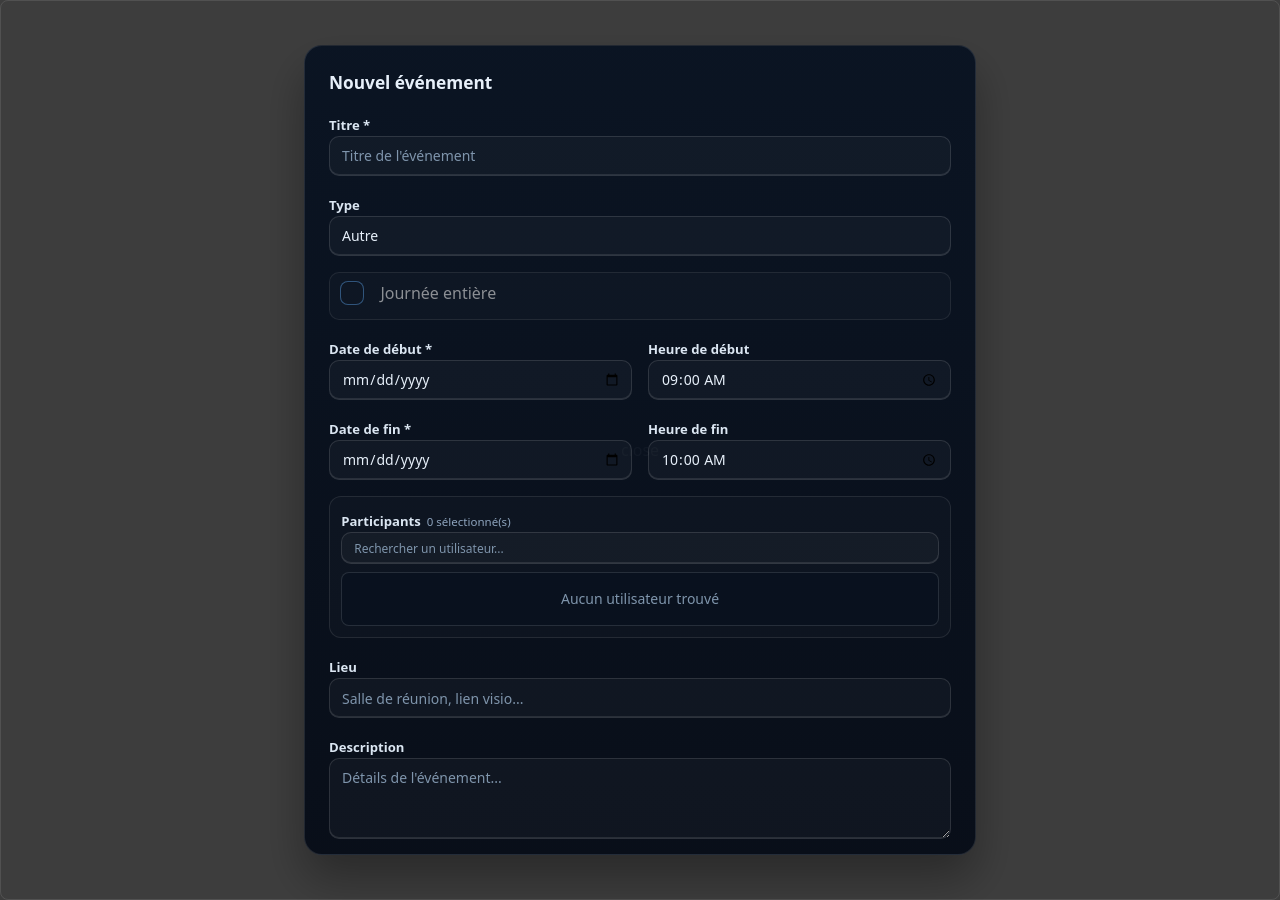
Test: CalendarEventModal — all-day toggle › hides time inputs when all-day is checked
The width and height of the screenshot is (1280, 900).
Click the checkbox labelled "Journée entière" at (352,293), box [340,281,364,305]
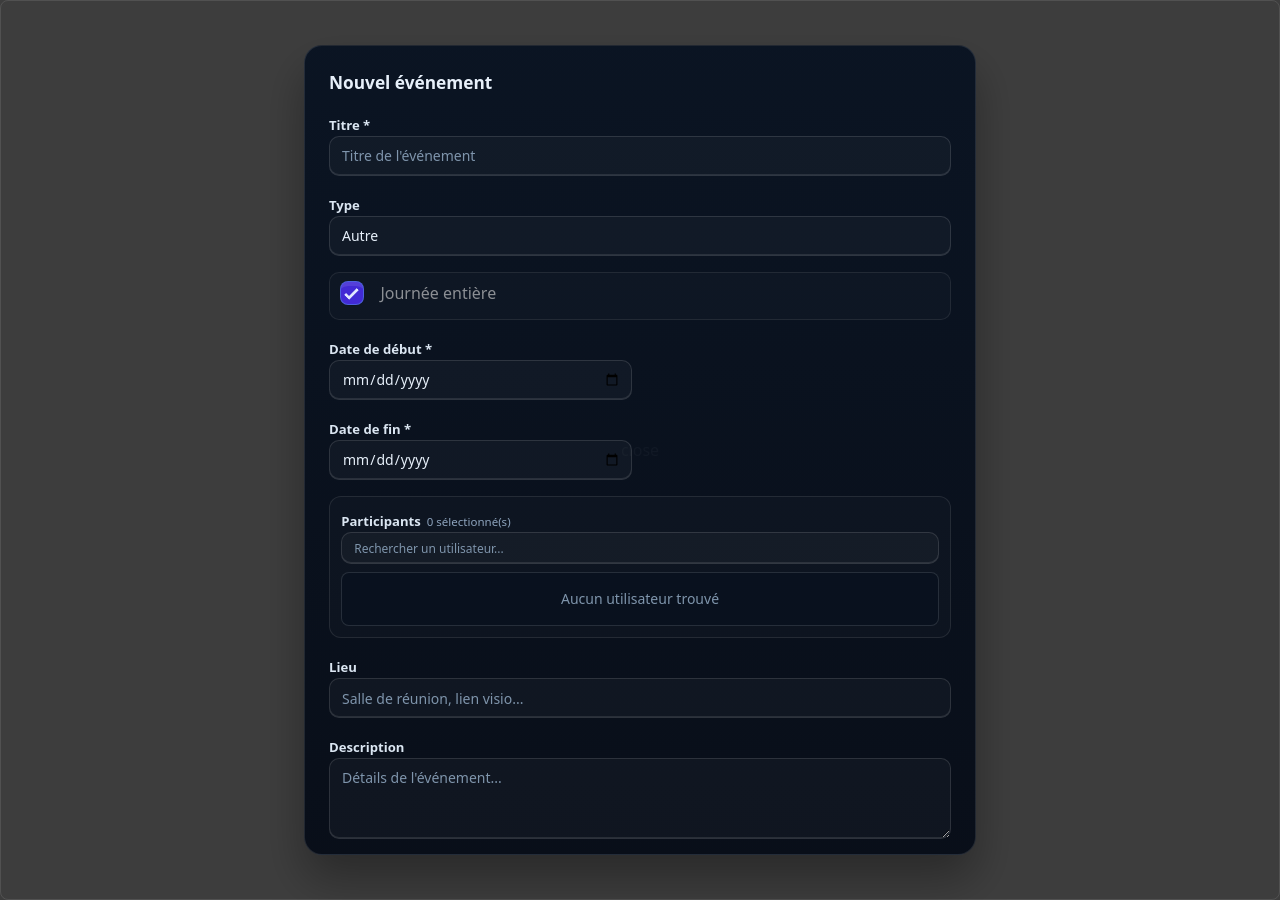
Now no time fields are shown
